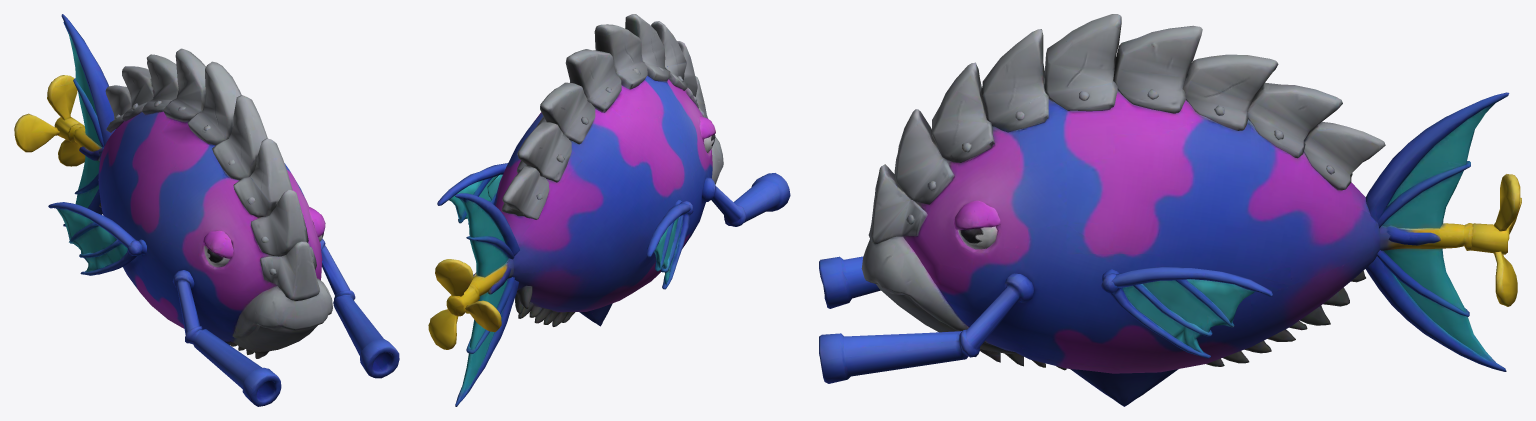
Rendered from perrocrasaure.glb.
The picture shows the model from 3 angles, left to right: view 1: azimuth 30°, elevation 25°; view 2: azimuth 150°, elevation 25°; view 3: azimuth 270°, elevation 25°; orthographic projection. The views are drawn at different scales.
Parts seen in each view (by area): view 1: tripo_node_604fbf99-383e-4c84-abf6-7620627af3ce; view 2: tripo_node_604fbf99-383e-4c84-abf6-7620627af3ce; view 3: tripo_node_604fbf99-383e-4c84-abf6-7620627af3ce.
Boxes of the visible parts, <box> form: tripo_node_604fbf99-383e-4c84-abf6-7620627af3ce: <box>14,14,399,406</box>; tripo_node_604fbf99-383e-4c84-abf6-7620627af3ce: <box>428,14,790,406</box>; tripo_node_604fbf99-383e-4c84-abf6-7620627af3ce: <box>819,14,1521,406</box>.
Bounding box in the file's own units: 0.1865 × 0.25 × 0.4056.
1 material, 1 textured.
